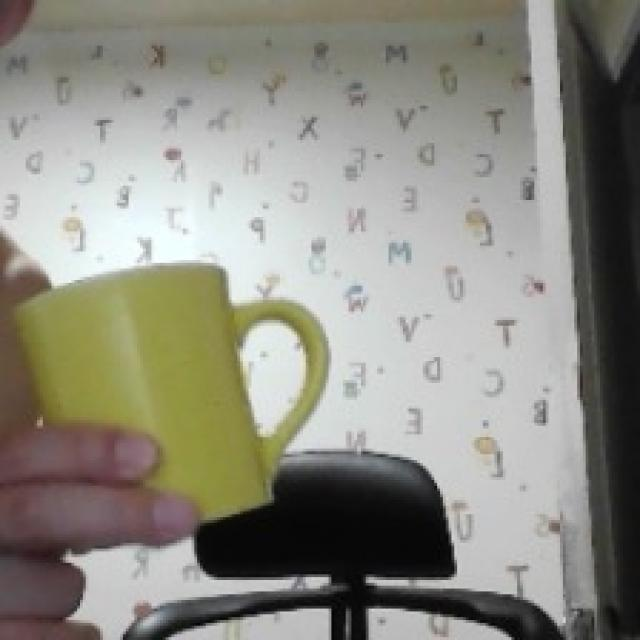cup: (20, 263, 326, 517)
